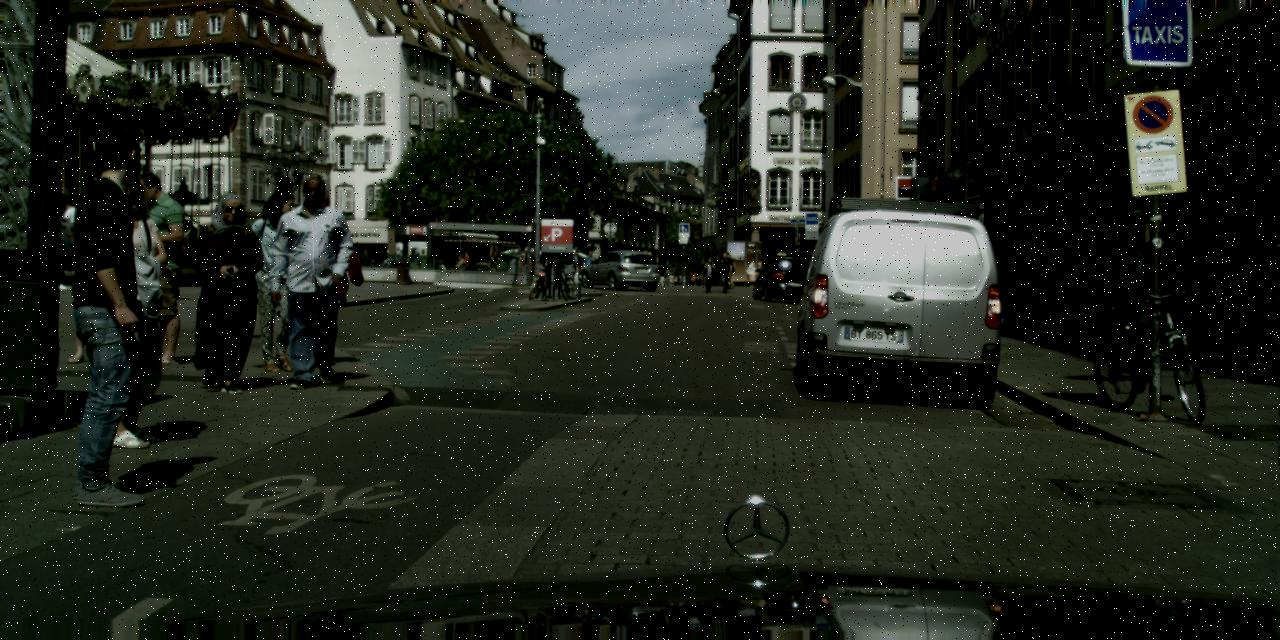ped: (36, 123, 192, 506), (82, 175, 193, 448), (274, 175, 360, 385), (185, 191, 268, 391), (115, 172, 194, 366), (248, 191, 322, 372), (51, 188, 122, 364), (981, 238, 1016, 328), (717, 252, 733, 292), (701, 256, 716, 292), (722, 252, 736, 288), (570, 251, 582, 283), (488, 250, 499, 276), (460, 252, 470, 277), (506, 255, 514, 278), (662, 265, 669, 285)
